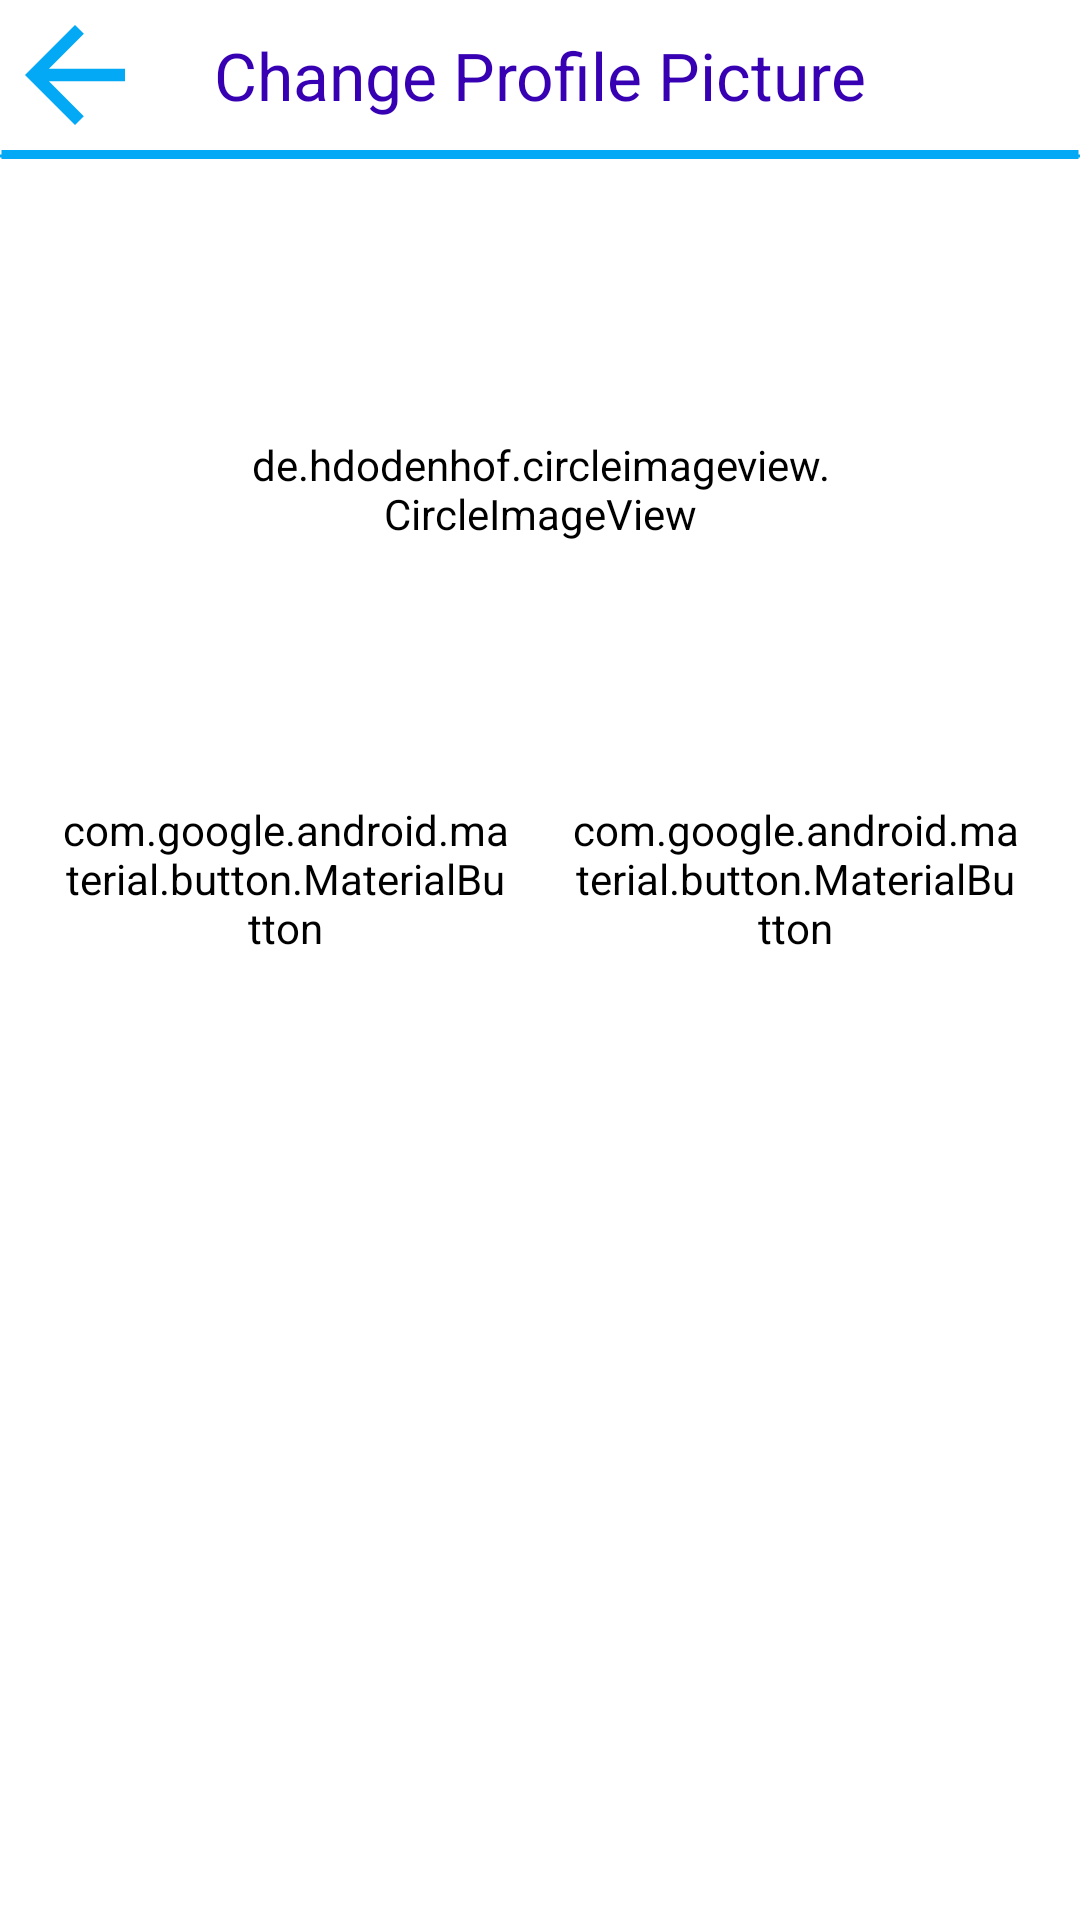

Named icons in this screenshot (1080 × 1920) and their bounding boxes, (x1, y1, x2, y2):
arrow back: (25, 25, 125, 125)
